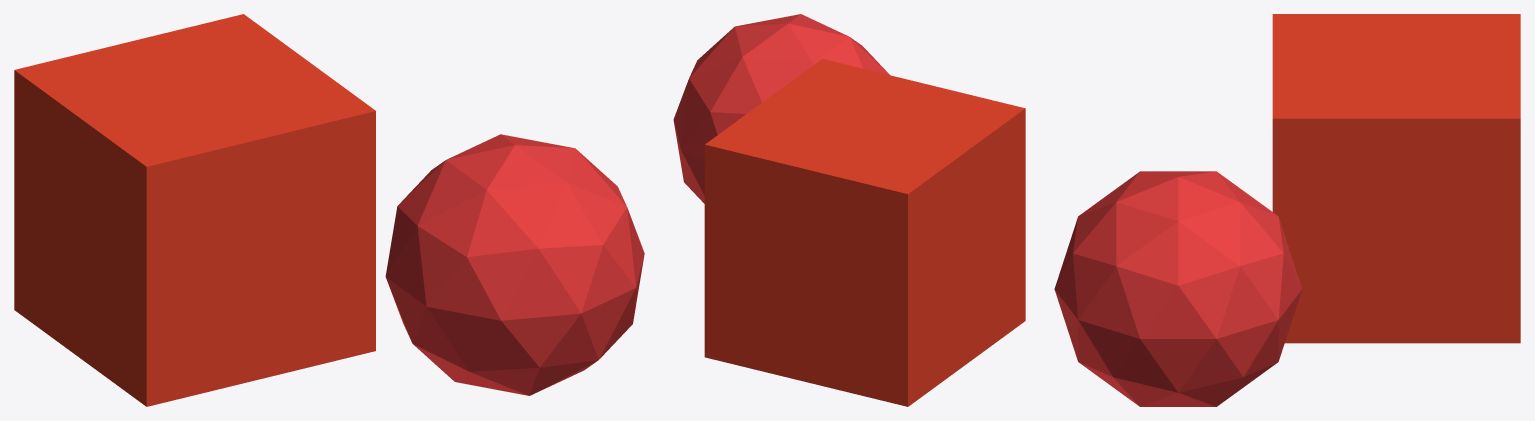
The picture shows the model from 3 angles, left to right: view 1: azimuth 30°, elevation 25°; view 2: azimuth 150°, elevation 25°; view 3: azimuth 270°, elevation 25°; orthographic projection. The views are drawn at different scales.
Parts seen in each view (by area): view 1: Cube, Icosphere; view 2: Cube, Icosphere; view 3: Cube, Icosphere.
Boxes of the visible parts, <box> form: Cube: <box>14,14,375,406</box>; Icosphere: <box>385,134,644,395</box>; Cube: <box>704,58,1025,406</box>; Icosphere: <box>673,14,889,203</box>; Cube: <box>1272,14,1520,343</box>; Icosphere: <box>1054,171,1302,406</box>.
Size of the model in its own units: 119 by 69.04 by 120.
